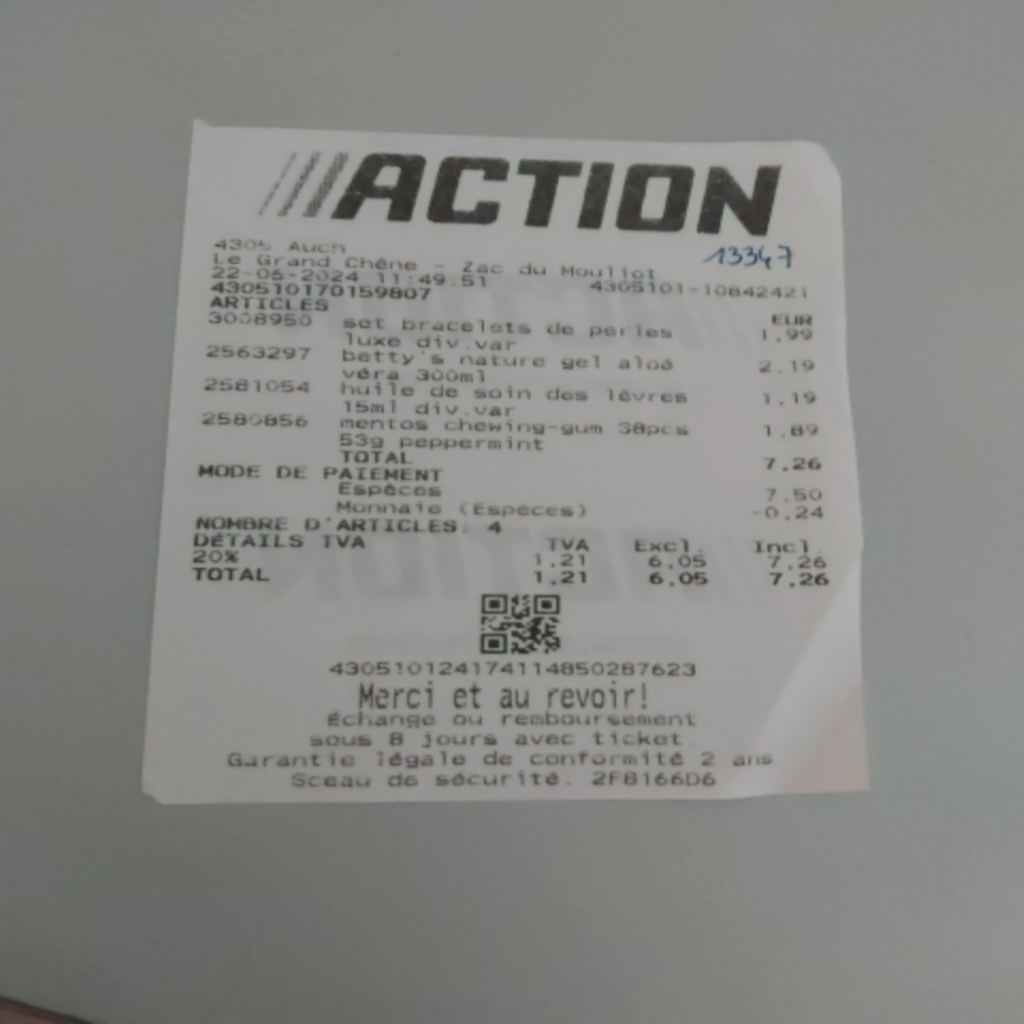recipt: (147, 120, 869, 808)
